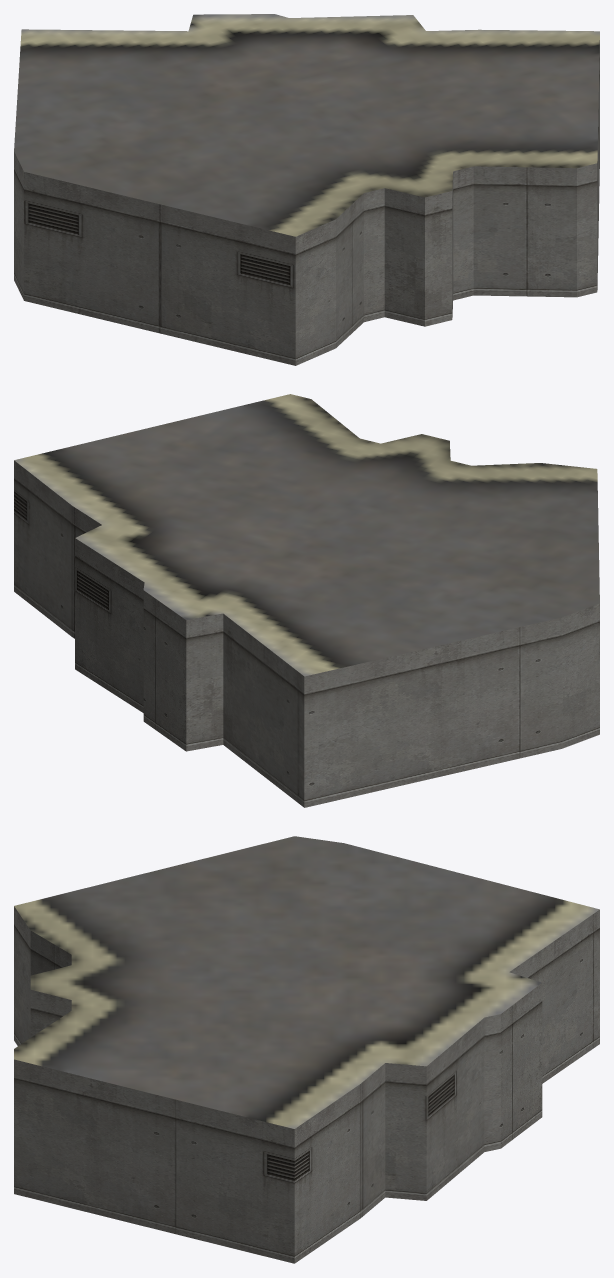
The model's file is building_medium_52.glb.
The picture shows the model from 3 angles, top to bottom: view 1: azimuth 30°, elevation 25°; view 2: azimuth 150°, elevation 25°; view 3: azimuth 270°, elevation 25°; orthographic projection. The views are drawn at different scales.
Visible parts, largest first — view 1: buildings/saxarba/building_medium/building_medium_52; view 2: buildings/saxarba/building_medium/building_medium_52; view 3: buildings/saxarba/building_medium/building_medium_52.
Part boxes in pixels (x1=…): buildings/saxarba/building_medium/building_medium_52: x1=14, y1=14, x2=599, y2=365; buildings/saxarba/building_medium/building_medium_52: x1=14, y1=394, x2=599, y2=807; buildings/saxarba/building_medium/building_medium_52: x1=14, y1=836, x2=599, y2=1263.
Bounding box in the file's own units: 84 × 18 × 71.
